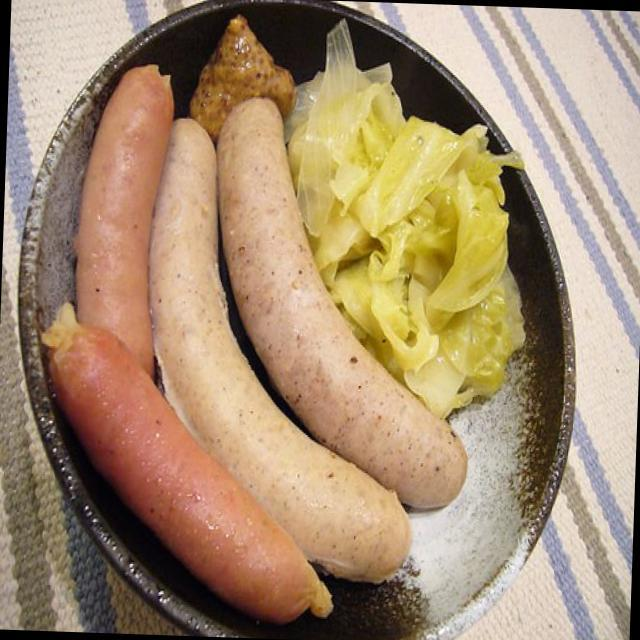Sausage: (3, 61, 459, 626)
